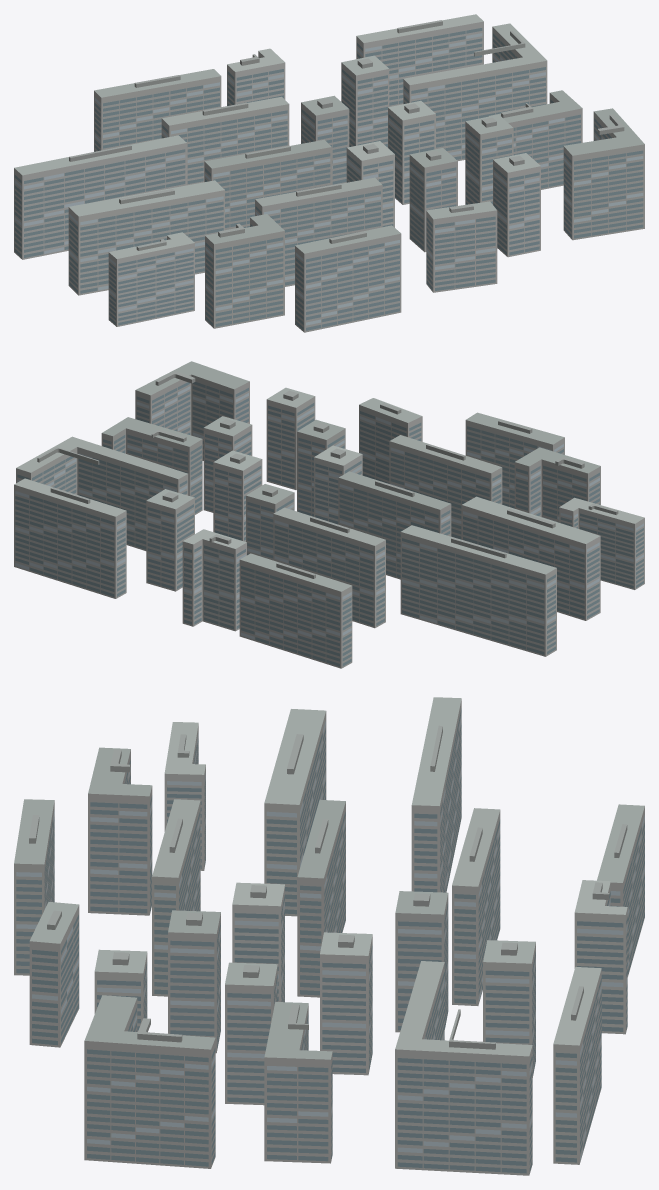
The model's file is apt-a10026879.glb.
3 renders of one model, top to bottom at view 1: azimuth 30°, elevation 25°; view 2: azimuth 150°, elevation 25°; view 3: azimuth 270°, elevation 25°, orthographic. The views are drawn at different scales.
Visible parts, largest first — view 1: apt-a10026879; view 2: apt-a10026879; view 3: apt-a10026879.
Boxes of the visible parts, left/top/right/bottom form: apt-a10026879: left=14, top=14, right=644, bottom=332; apt-a10026879: left=14, top=361, right=644, bottom=668; apt-a10026879: left=14, top=697, right=644, bottom=1175.
Bounding box in the file's own units: 284 × 46 × 210.
